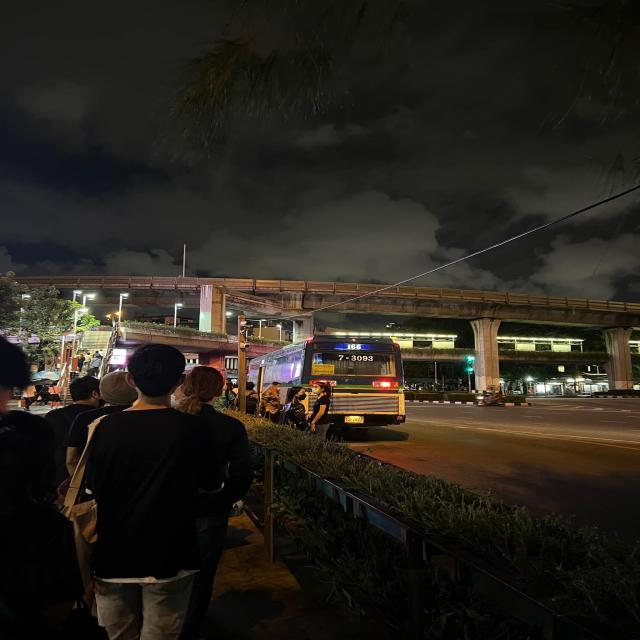BMTA-bus: (247, 334, 409, 430)
Bus-Line-Number: (346, 344, 362, 351)
Destination-Sign-Normal-Expressway: (312, 364, 334, 374)
